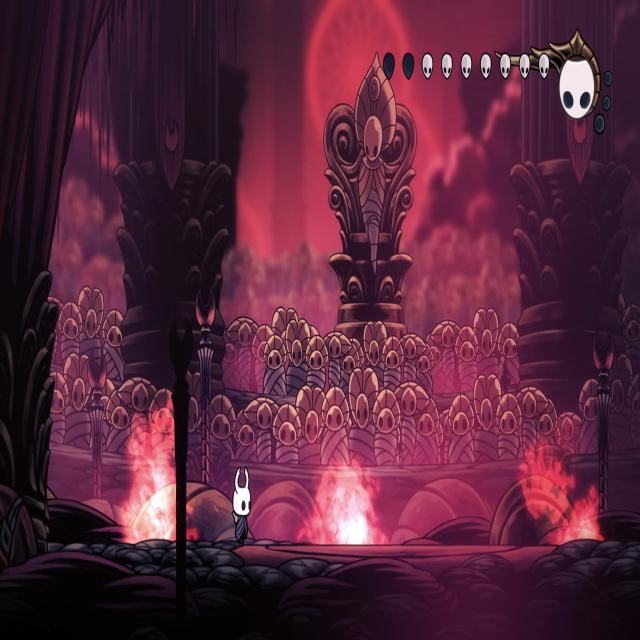Fireball: (125, 448, 190, 540), (325, 487, 374, 545), (556, 501, 603, 544)
Player: (228, 462, 255, 548)
